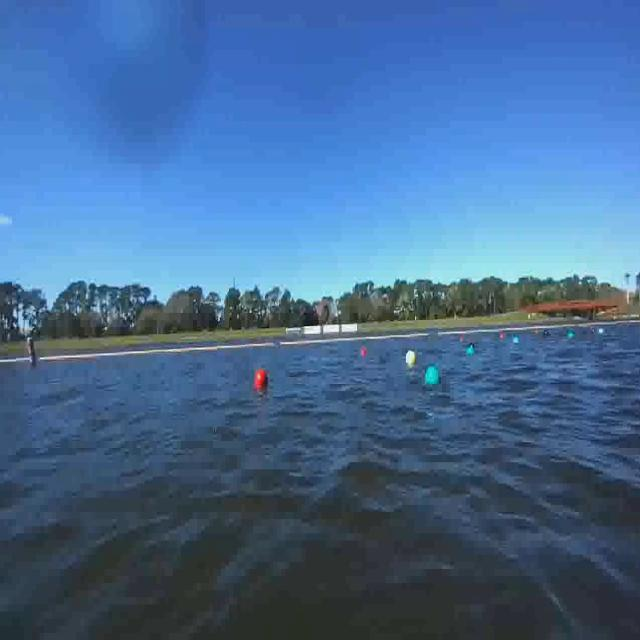green-buoy: (424, 364, 441, 384)
red-buoy: (254, 366, 269, 393), (361, 347, 367, 357)
yellow-buoy: (407, 350, 418, 364)
